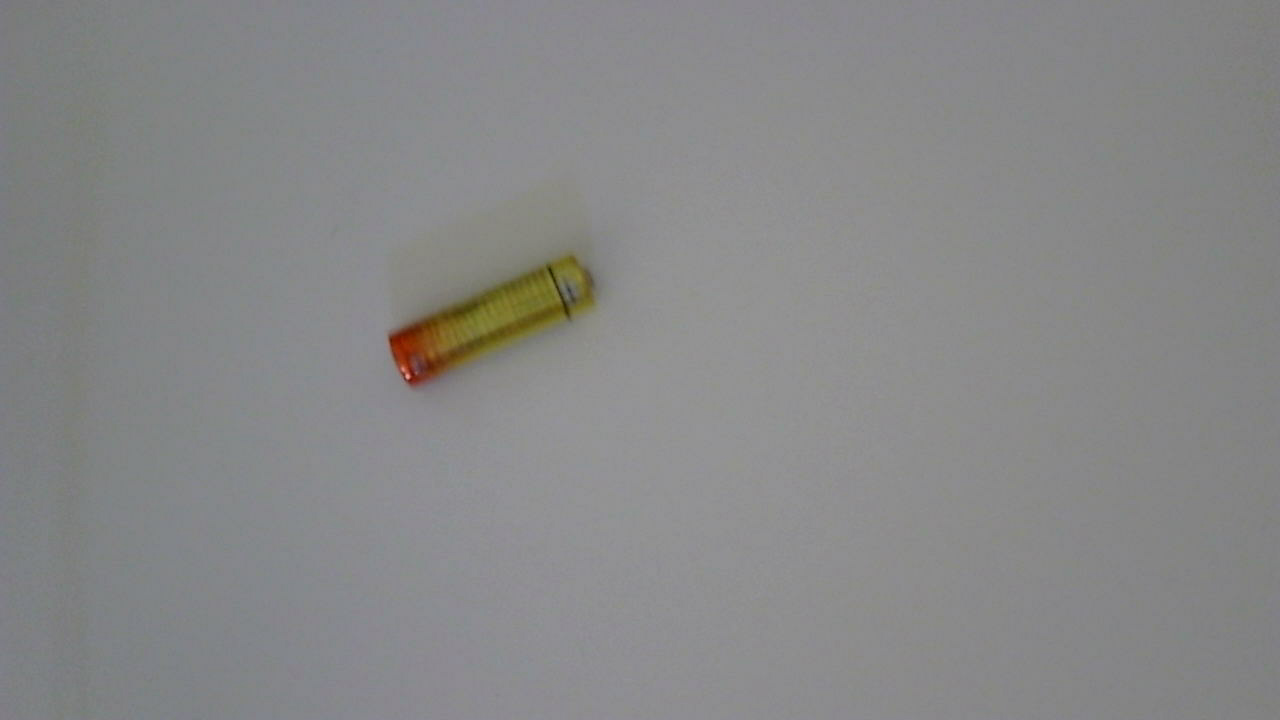Battery: (392, 253, 606, 401)
